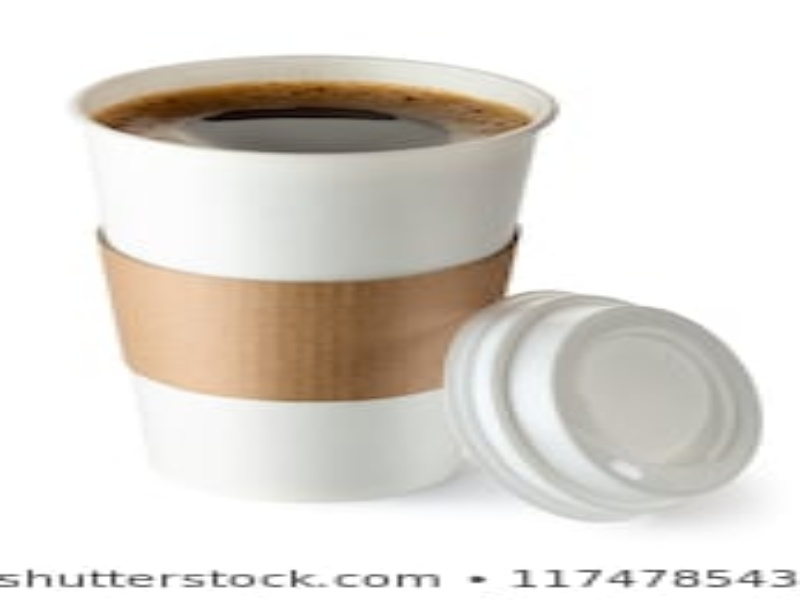coffee-lid: (456, 295, 762, 523)
plastic-cup: (70, 52, 558, 509)
